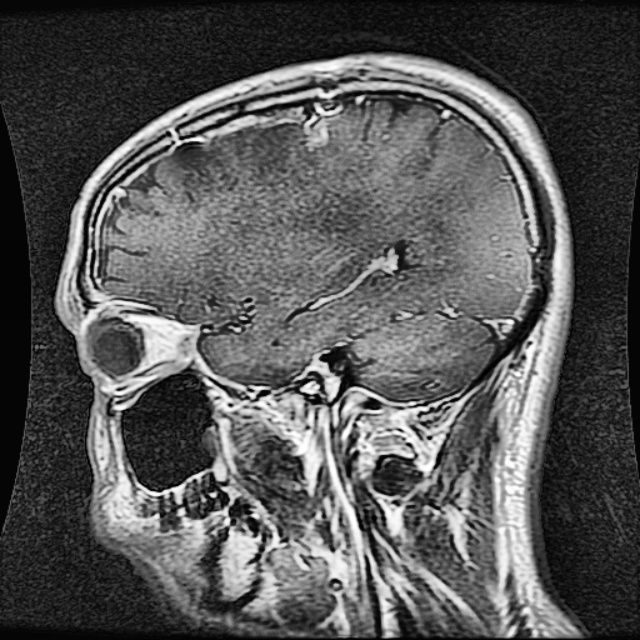Meningioma: (304, 115, 330, 150)
